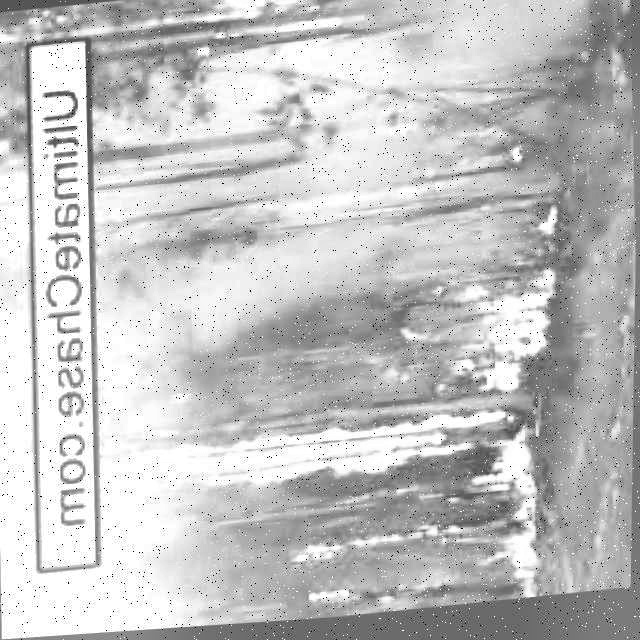Fire: (100, 414, 547, 521), (451, 253, 553, 404), (481, 479, 549, 608), (389, 149, 529, 203), (193, 0, 291, 56)
Smoke: (84, 66, 435, 454), (326, 0, 621, 123), (0, 75, 38, 640)
